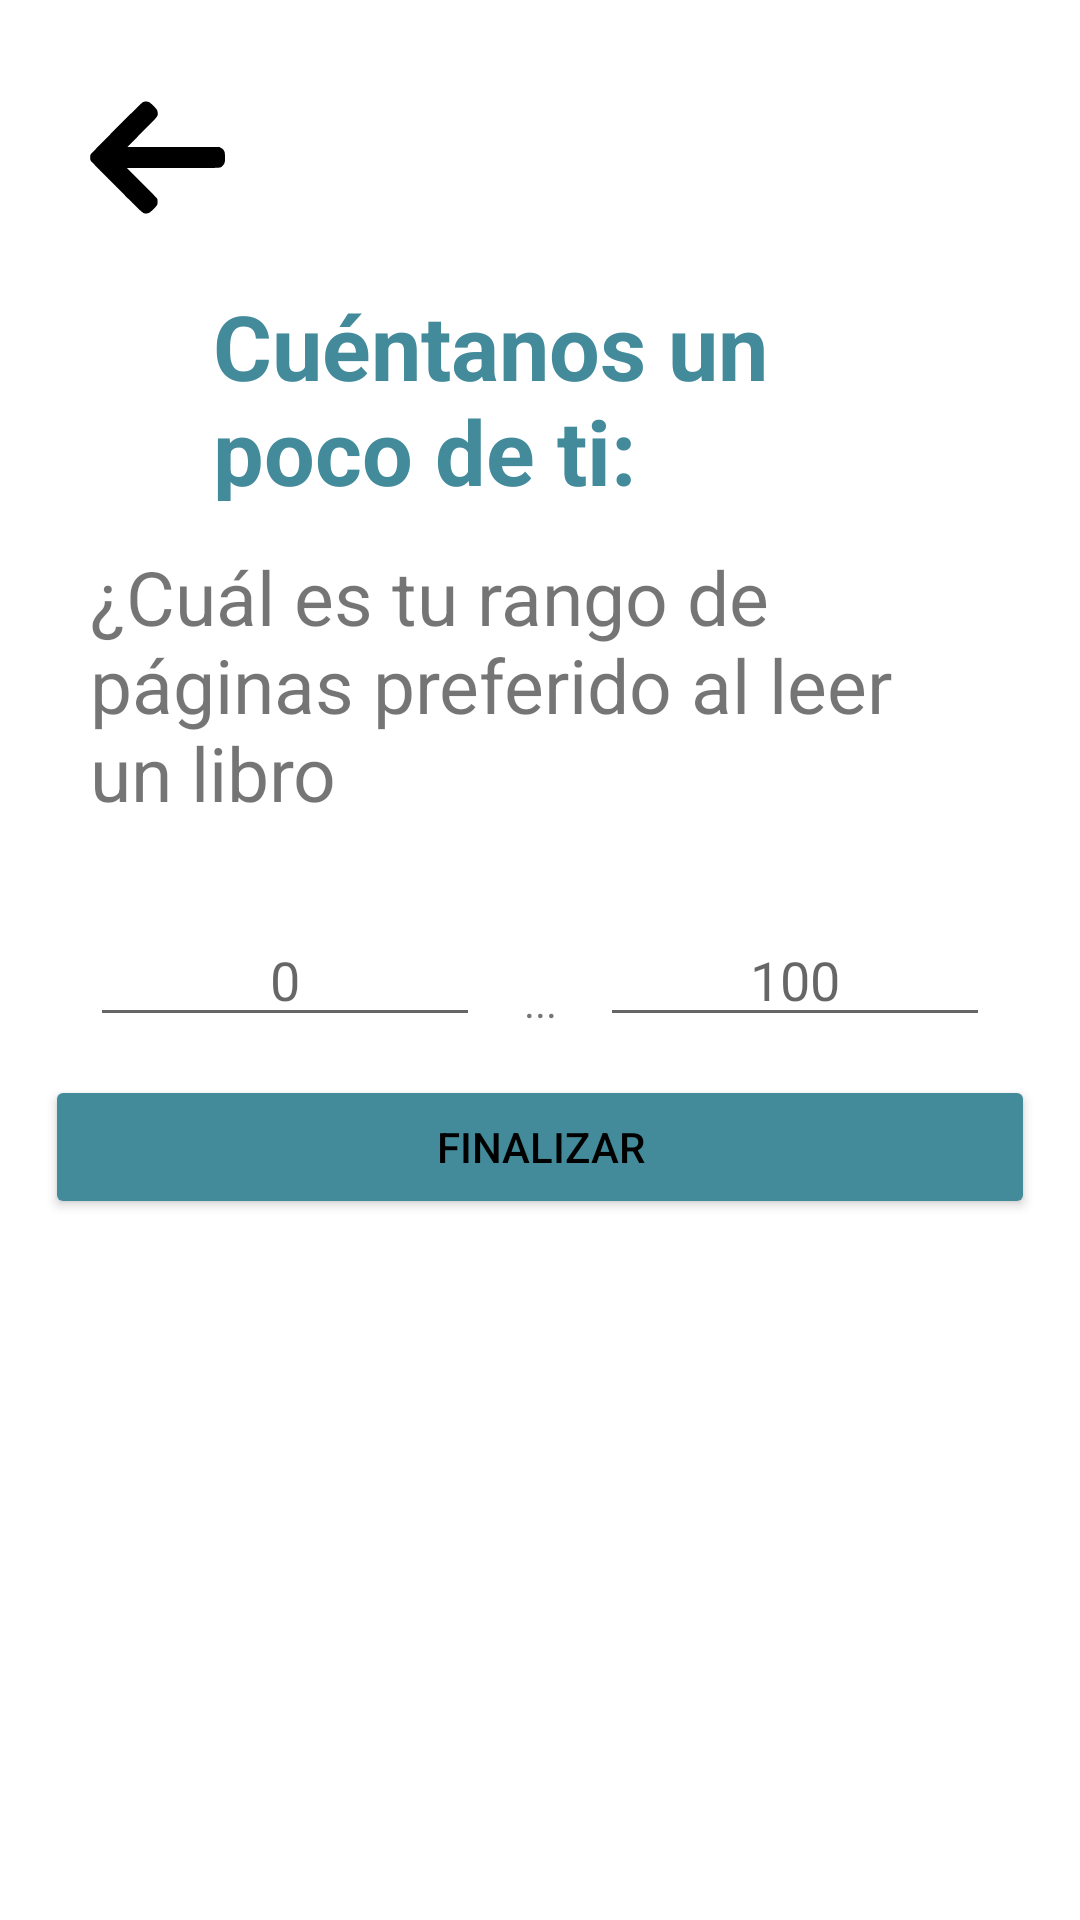

Locate icon controls on the screen. Image size 1080*1920, boxes as (x1, y1, x2, y2).
back: (90, 101, 225, 214)
